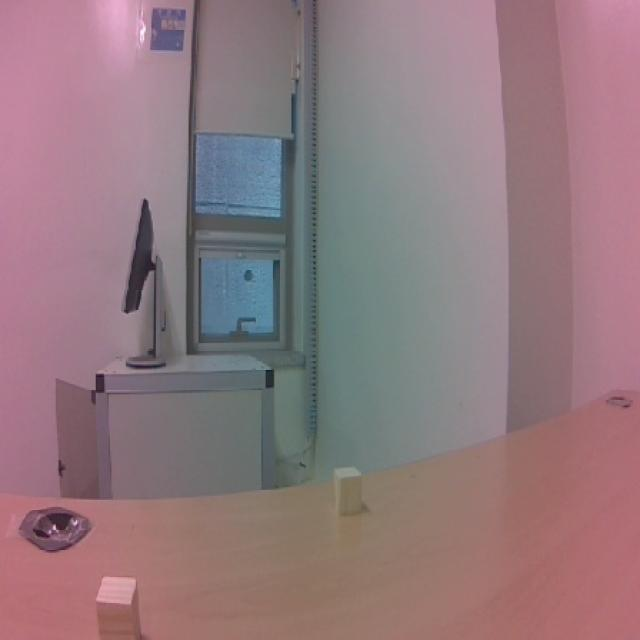obstacle: (328, 453, 373, 519)
